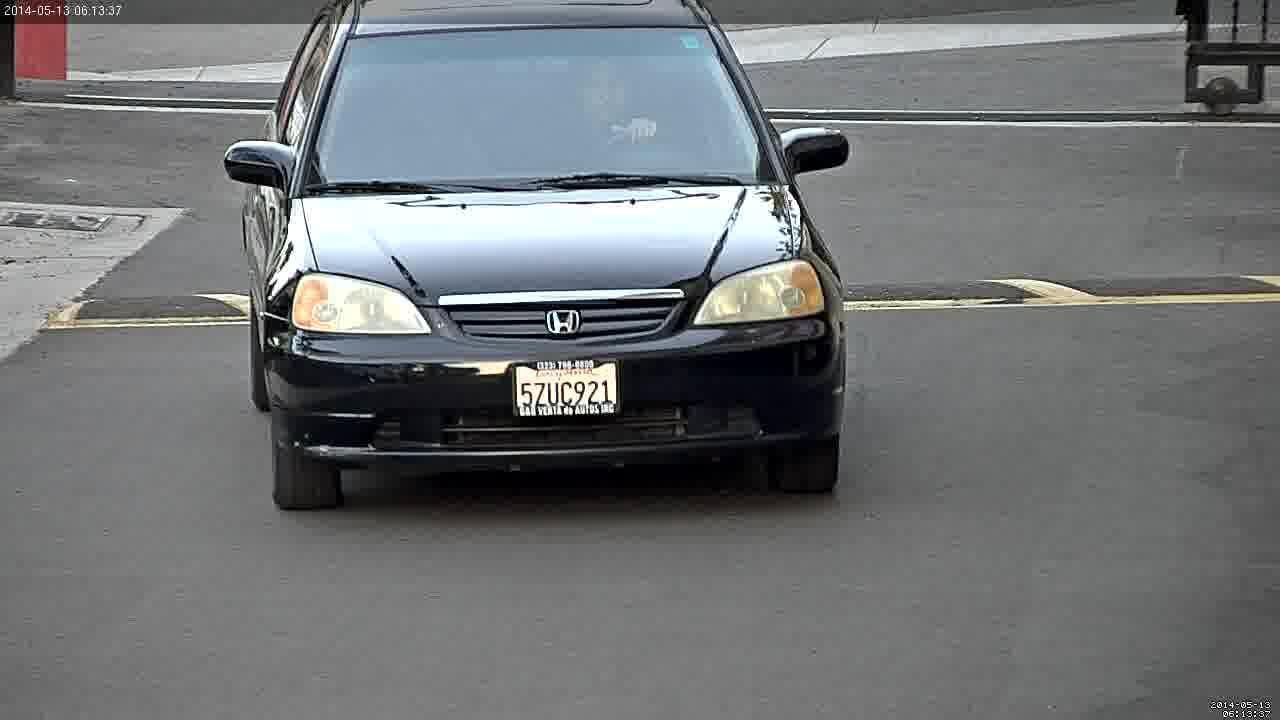placa de veiculo: (489, 339, 641, 445)
